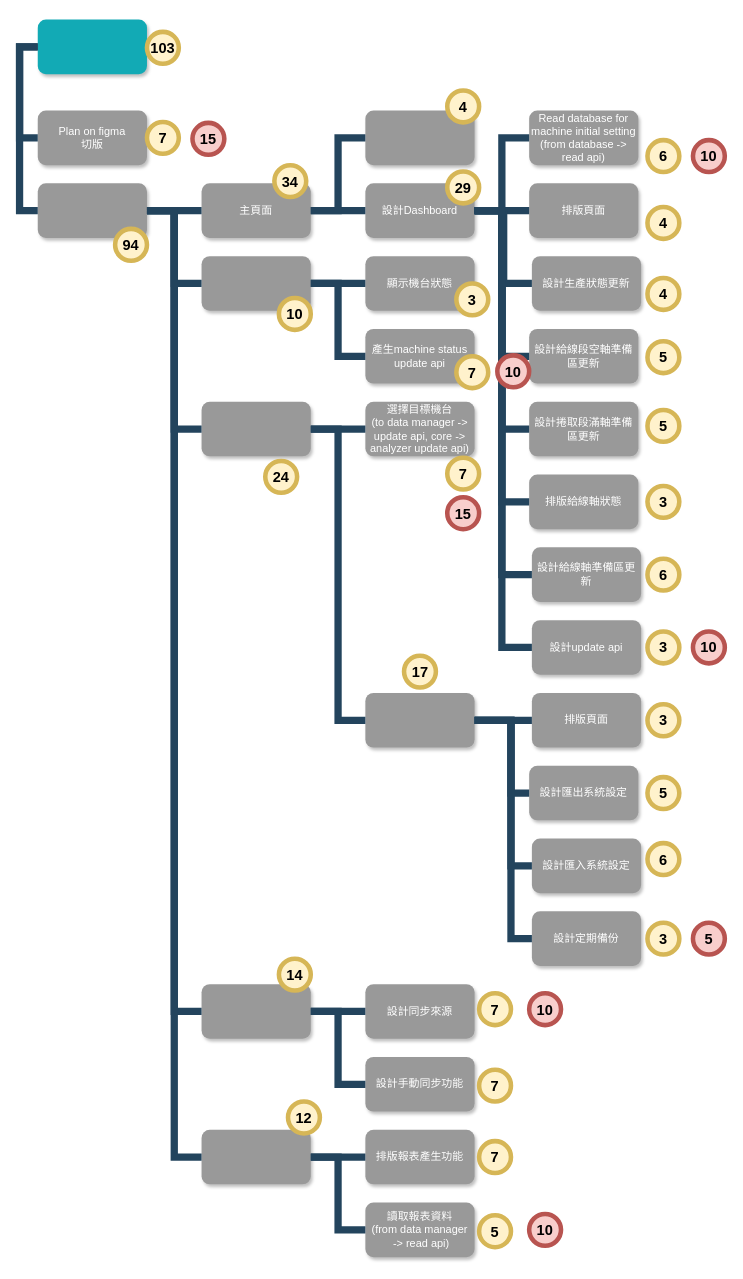
Image size: 743x1279. Some labels were removed from this diagram. The shapes that lost their labels are listed below. From the top down, each one's centre as x and y in pixels, then its label:
At point (93, 47): "UI".
At point (420, 138): "設計選單功能".
At point (93, 211): "實作".
At point (256, 284): "選單：機台設定".
At point (256, 430): "選單：系統設定".
At point (420, 721): "設計備份設定/資料頁面".
At point (256, 1012): "選單：同步設定".
At point (256, 1158): "選單：報表".
